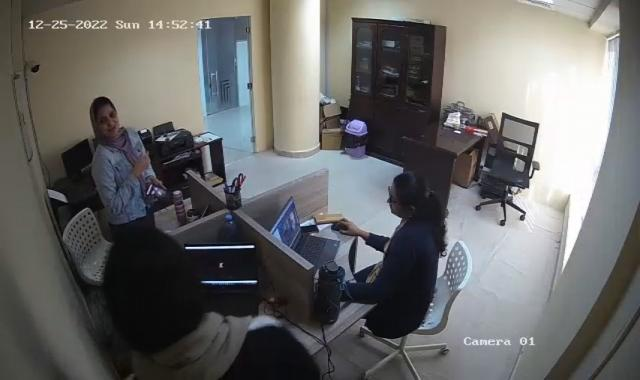no_hairnet: (101, 237, 199, 337), (387, 174, 426, 224), (86, 94, 120, 136)
